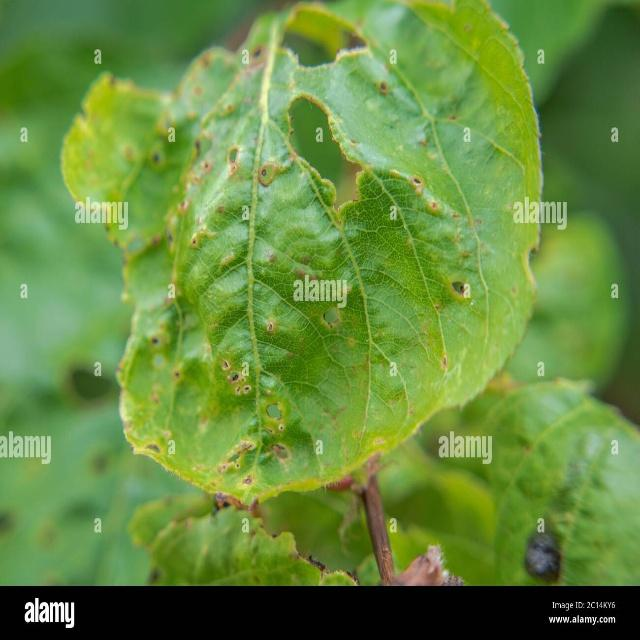shot_hole: (97, 12, 555, 510)
